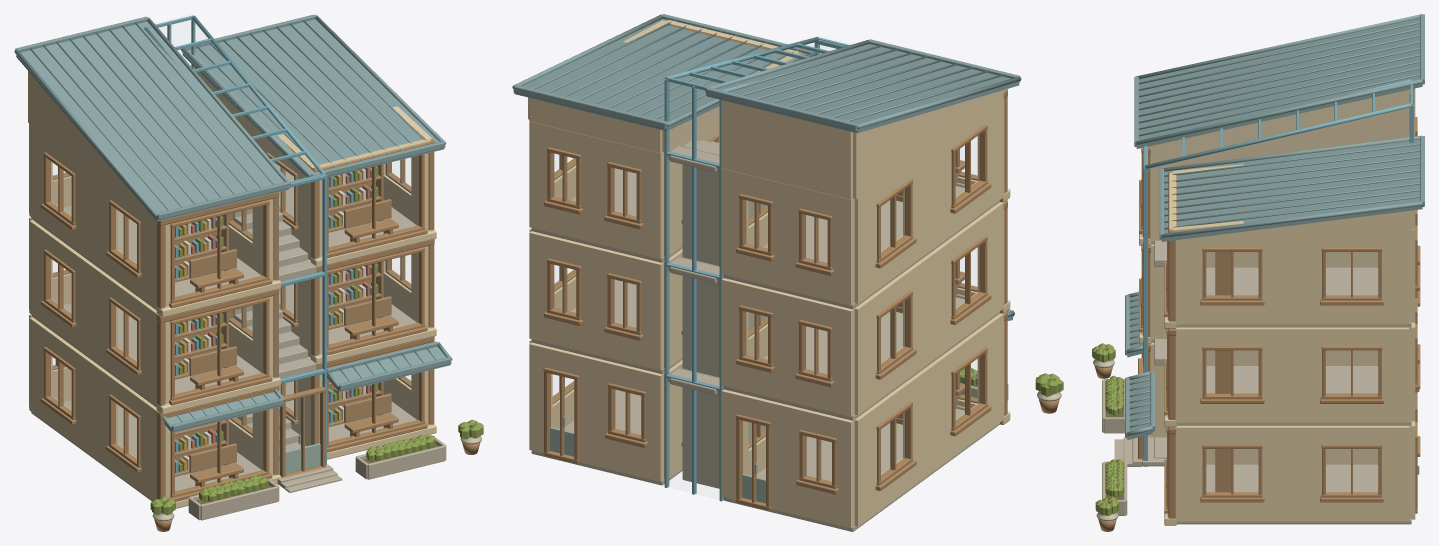
3 renders of one model, left to right at view 1: azimuth 30°, elevation 25°; view 2: azimuth 150°, elevation 25°; view 3: azimuth 270°, elevation 25°, orthographic. The views are drawn at different scales.
Parts seen in each view (by area): view 1: SM_05_01_建筑墙体, SM_05_02_曲面屋顶, SM_05_04_门窗楼梯, SM_05_06_景观设施, SM_05_03_木构回廊, SM_05_05_景观植物; view 2: SM_05_01_建筑墙体, SM_05_04_门窗楼梯, SM_05_02_曲面屋顶, SM_05_03_木构回廊, SM_05_05_景观植物, SM_05_06_景观设施; view 3: SM_05_01_建筑墙体, SM_05_02_曲面屋顶, SM_05_04_门窗楼梯, SM_05_05_景观植物, SM_05_03_木构回廊, SM_05_06_景观设施.
Part boxes in pixels (box(x1,y1,x2,y2)): SM_05_01_建筑墙体: box(28, 68, 436, 508); SM_05_02_曲面屋顶: box(14, 14, 452, 432); SM_05_04_门窗楼梯: box(40, 15, 427, 501); SM_05_06_景观设施: box(175, 164, 398, 487); SM_05_03_木构回廊: box(156, 139, 434, 499); SM_05_05_景观植物: box(150, 419, 483, 531); SM_05_01_建筑墙体: box(528, 20, 1010, 531); SM_05_04_门窗楼梯: box(543, 37, 991, 510); SM_05_02_曲面屋顶: box(512, 14, 1021, 320); SM_05_03_木构回廊: box(664, 19, 1007, 424); SM_05_05_景观植物: box(960, 367, 1063, 413); SM_05_06_景观设施: box(896, 149, 964, 424); SM_05_01_建筑墙体: box(1139, 88, 1415, 525); SM_05_02_曲面屋顶: box(1125, 14, 1424, 439); SM_05_04_门窗楼梯: box(1114, 79, 1420, 513); SM_05_05_景观植物: box(1092, 343, 1127, 531); SM_05_03_木构回廊: box(1143, 147, 1176, 524); SM_05_06_景观设施: box(1140, 182, 1231, 492).
Bounding box in the file's own units: 10.72 × 11.19 × 9.19.
